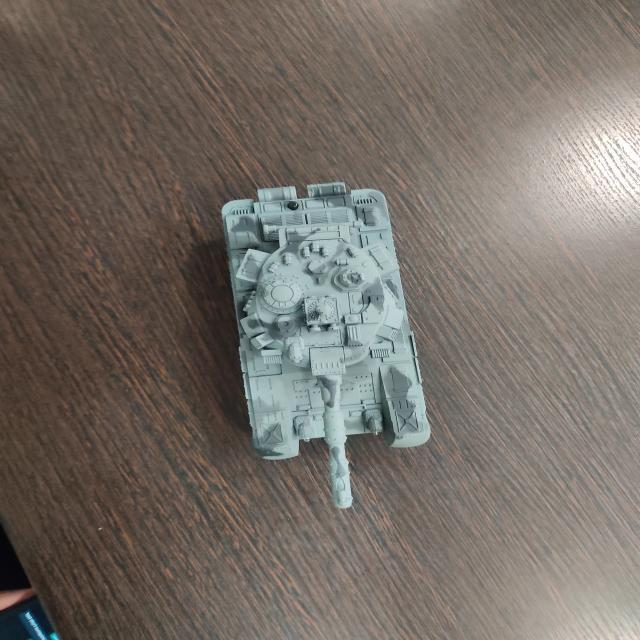Tanks: (220, 180, 432, 510)
